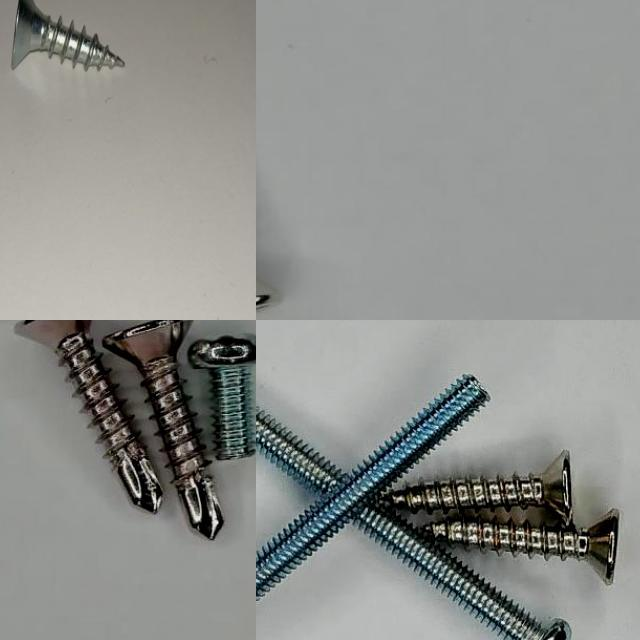Screw: (256, 374, 488, 601), (354, 502, 571, 640), (13, 320, 160, 513), (101, 320, 223, 539), (425, 510, 620, 585), (385, 450, 572, 524), (187, 335, 256, 460), (11, 0, 125, 71), (256, 406, 345, 495)
